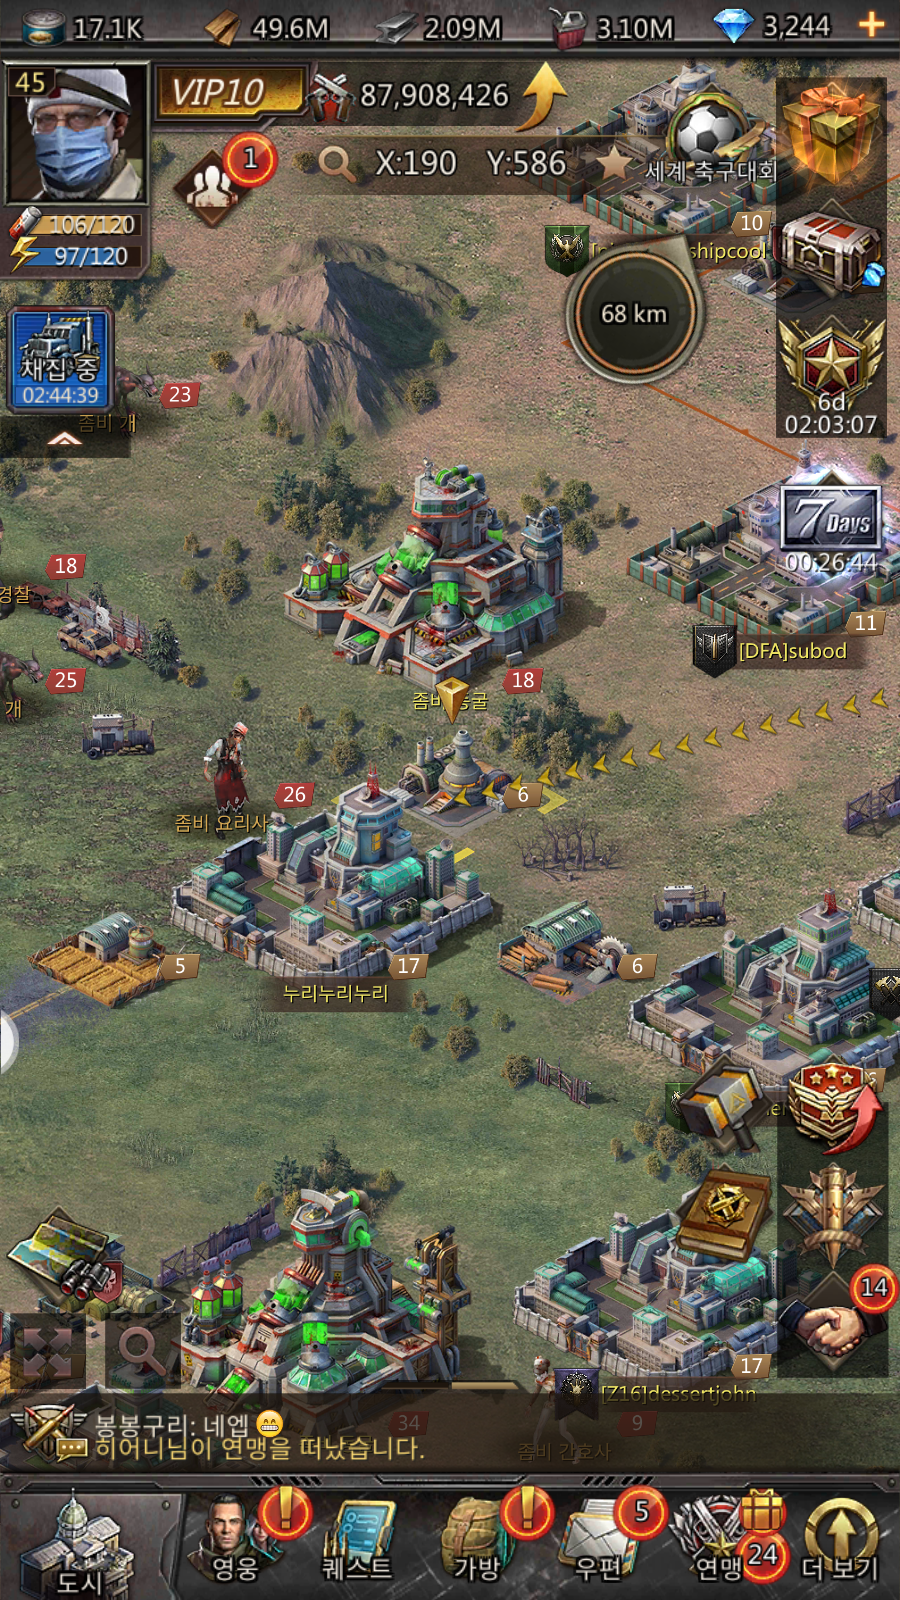city: (4, 1476, 185, 1600)
occupied_steel: (318, 662, 602, 885)
open_panel: (95, 1293, 198, 1407)
troops_cnt_1: (153, 120, 285, 242)
